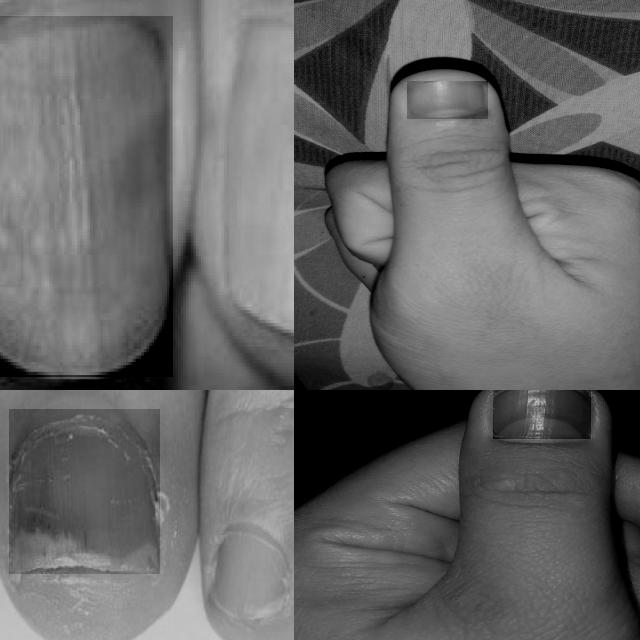diabetes: (0, 17, 173, 377), (10, 409, 160, 574), (226, 23, 294, 334), (213, 532, 288, 620)
sehat: (494, 390, 591, 439), (407, 82, 488, 119)
